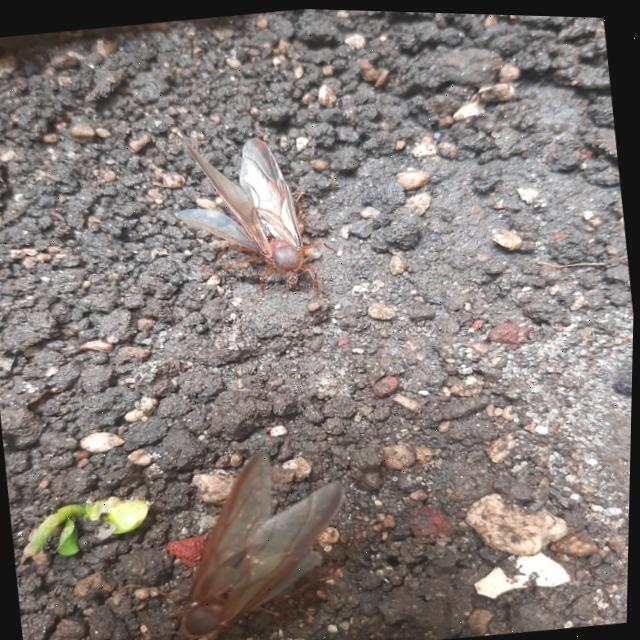Alive-Male-Alate: (104, 436, 366, 640), (165, 124, 347, 316)
